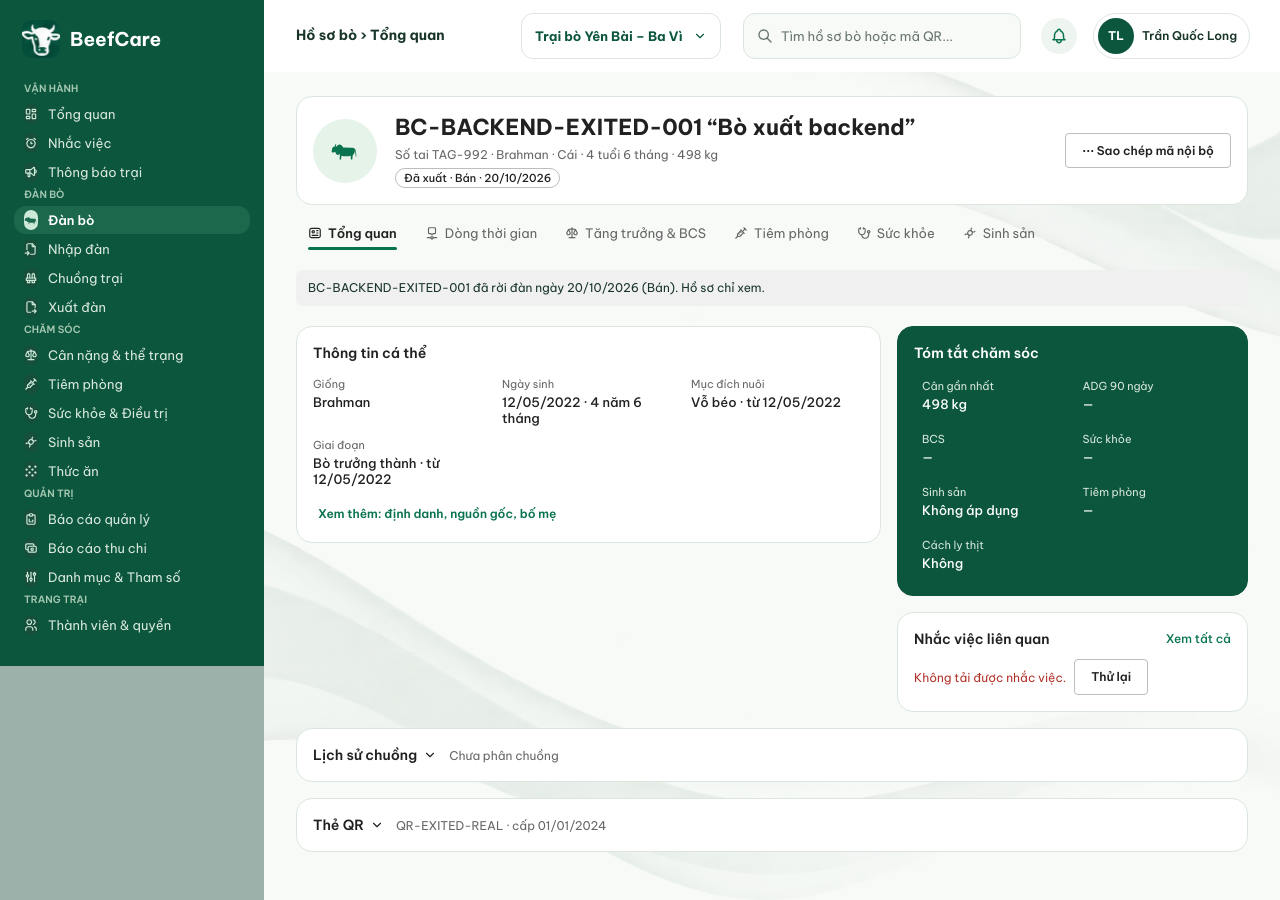
Test: CowProfile backend mode — exited cattle › renders backend-only identity and keeps exited cattle read-only while retaining history tabs
The image size is (1280, 900).
Expected: the text "BC-BACKEND-EXITED-001 “Bò xuất backend”" is shown, [395,113,915,141]
Expected: the text "Đã xuất · Bán · 20/10/2026" is shown, [395,168,560,188]
What coordinates should you click on to do the following:
click the button "Lịch sử chuồng"
I would click on:
 (375, 755)
Its box is [313,745,437,765].
(page scrolled)
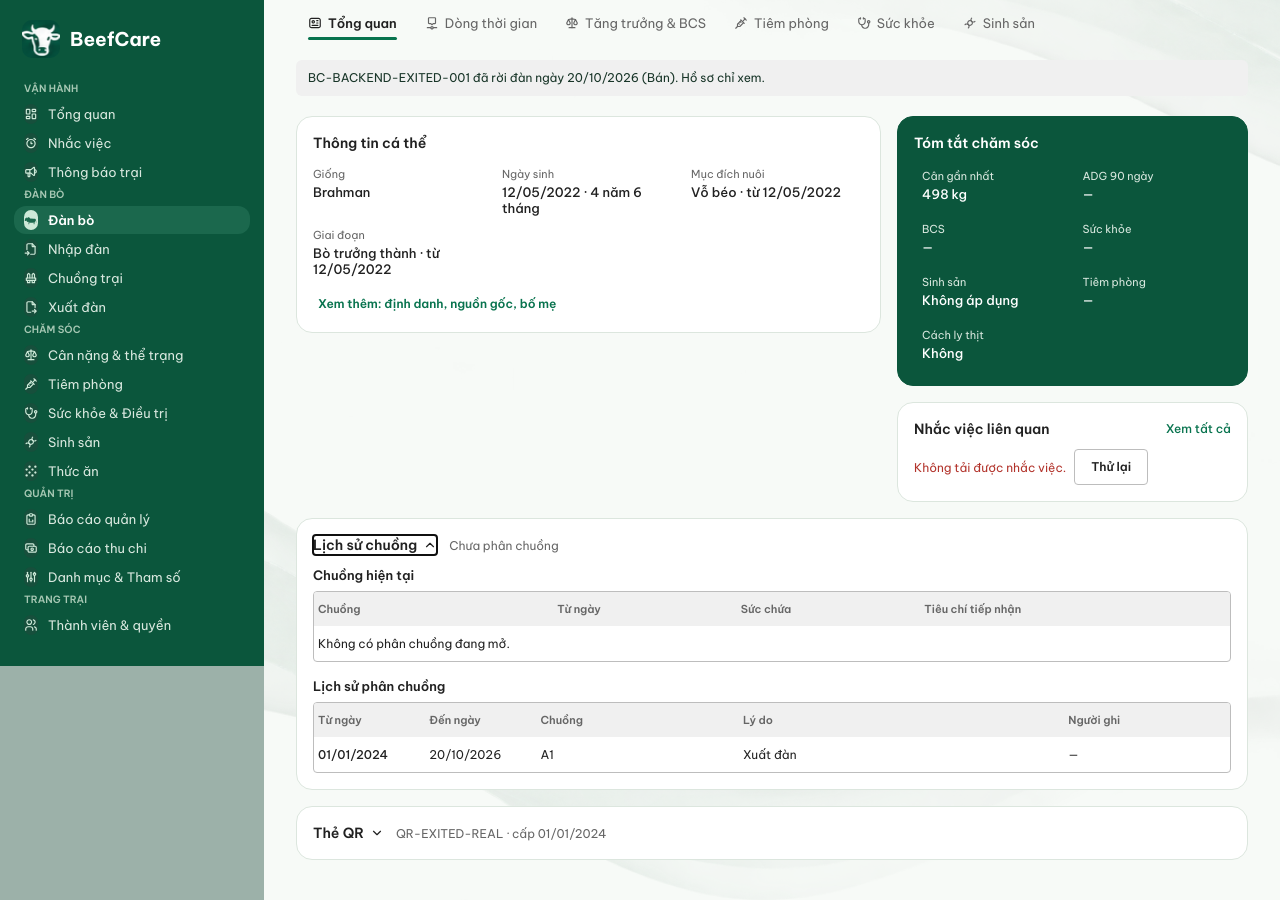
Expected: the button "Lịch sử chuồng" is shown, [313,535,437,555]
Result: the text "20/10/2026" is shown at [425,737,537,772]
What coordinates should you click on to do the following:
click the button "Thẻ QR"
I would click on:
 (348, 833)
Its box is [313,823,384,843].
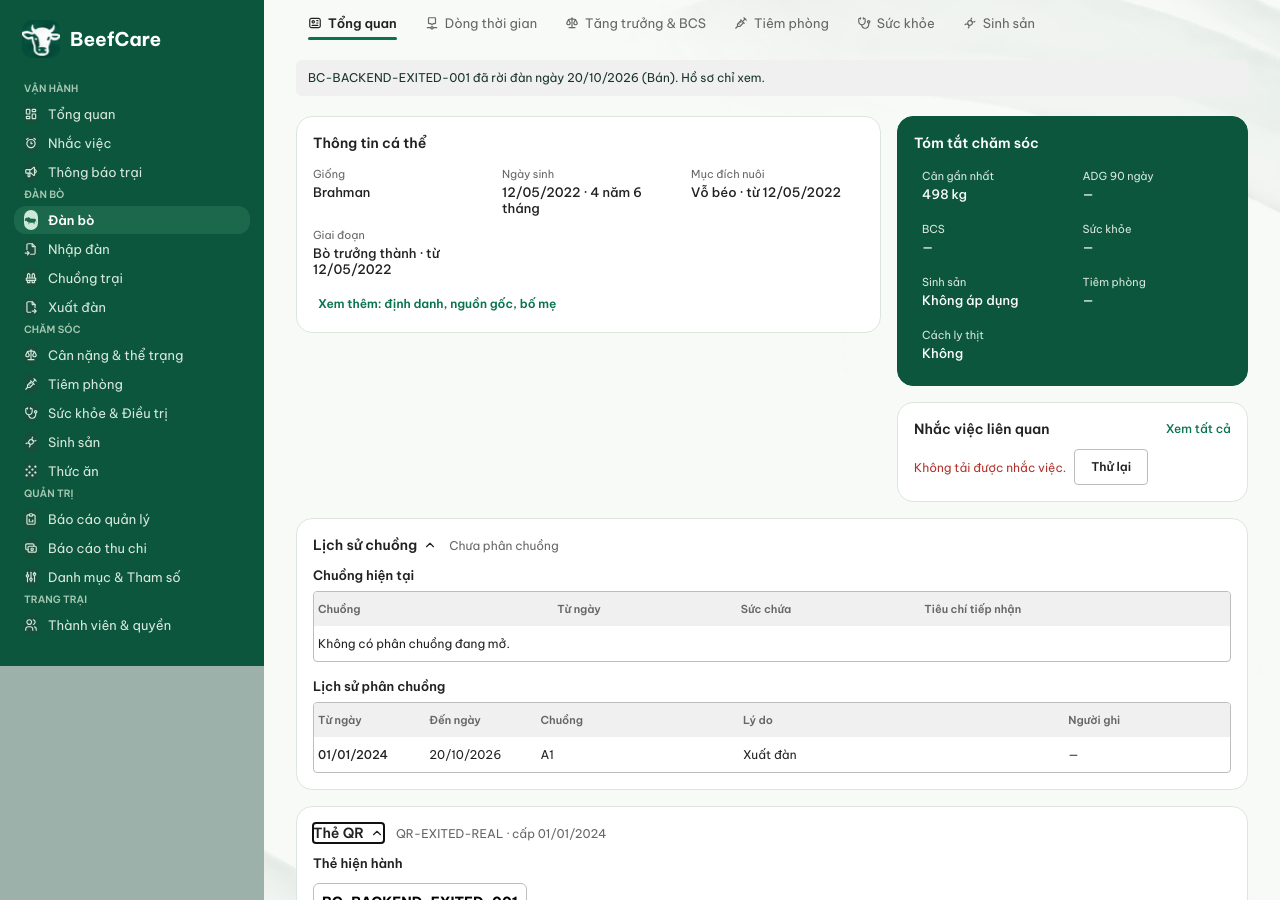
What coordinates should you click on to do the following:
click the button "Dòng thời gian"
I would click on:
 (481, 28)
Its box is [413,15,549,40].
(page scrolled)
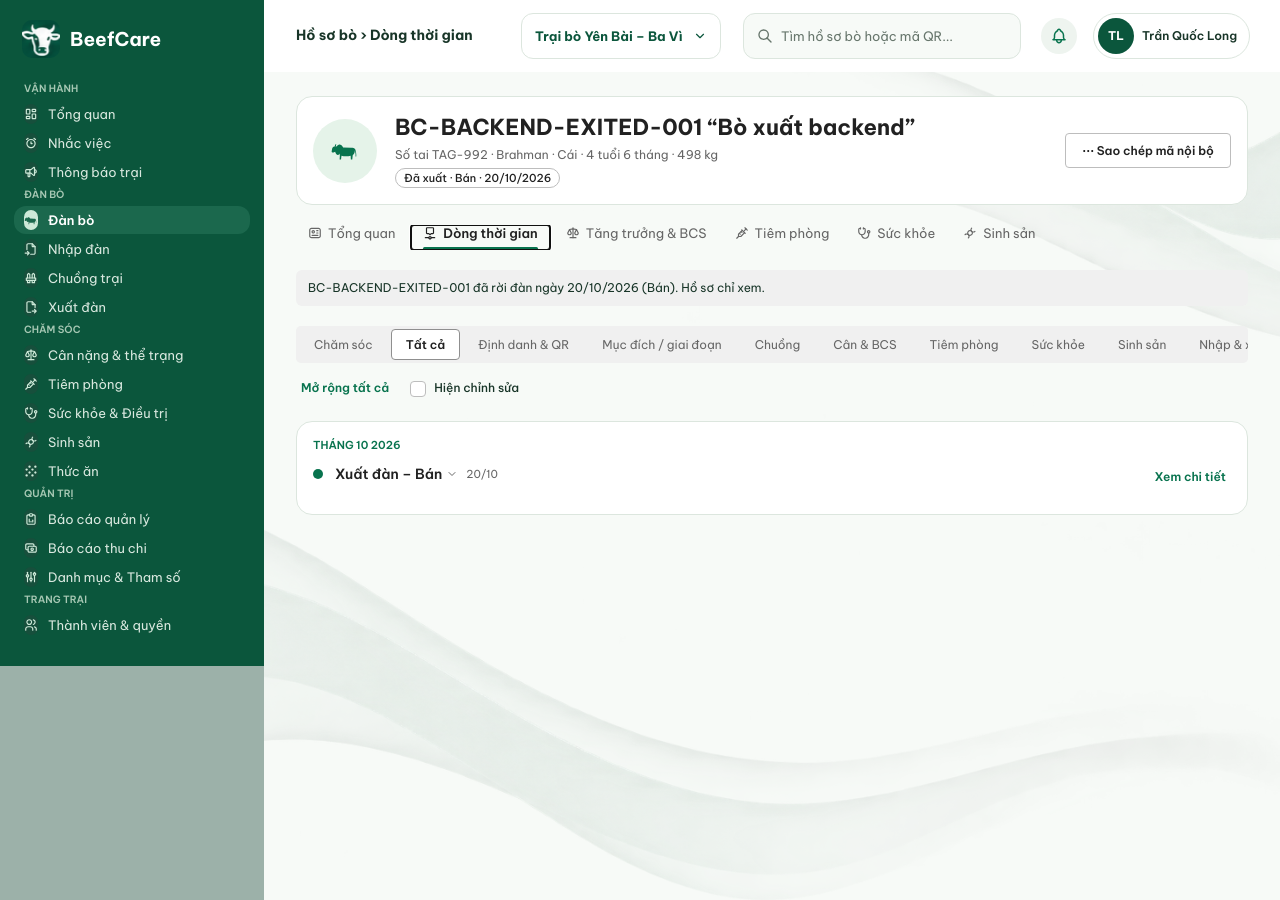
Result: the button "Xuất đàn – Bán" is shown at [335,464,458,484]
